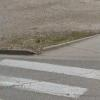Crosswalk: (4, 52, 89, 100)
